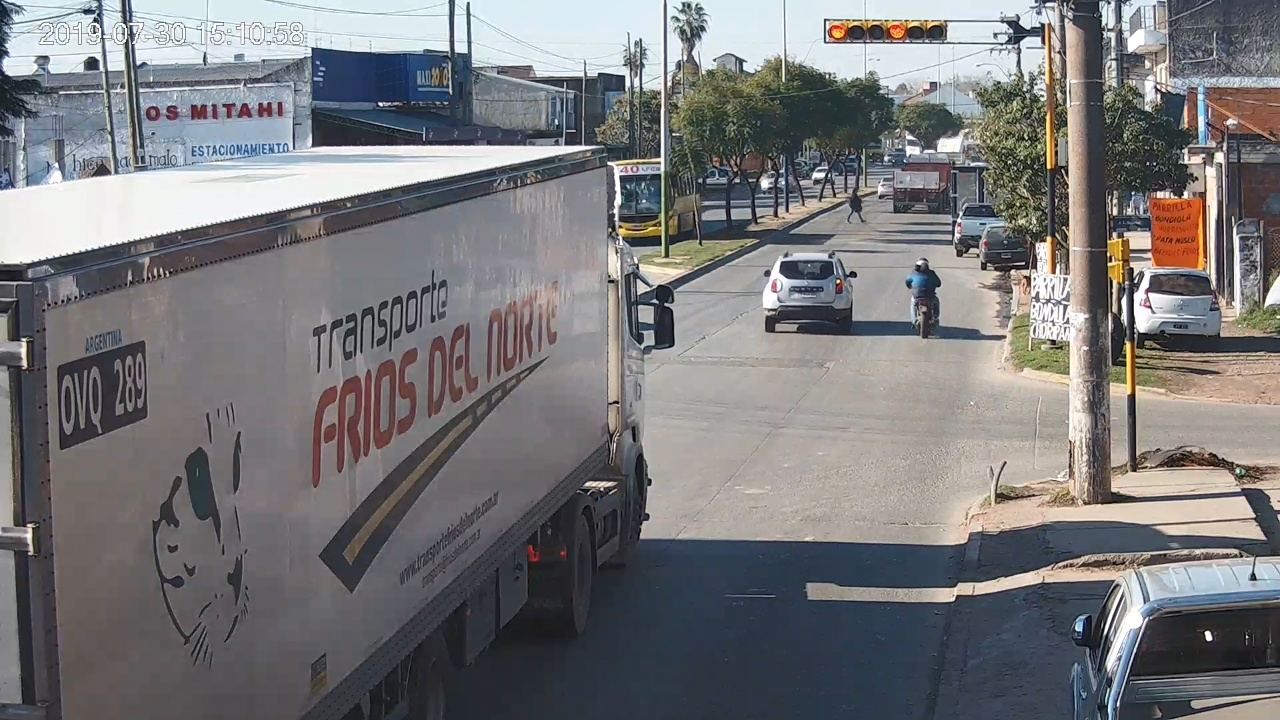car: (762, 252, 857, 334)
motorcycle: (906, 269, 941, 339)
traffic light: (827, 18, 948, 43)
truck: (1, 145, 675, 720)
